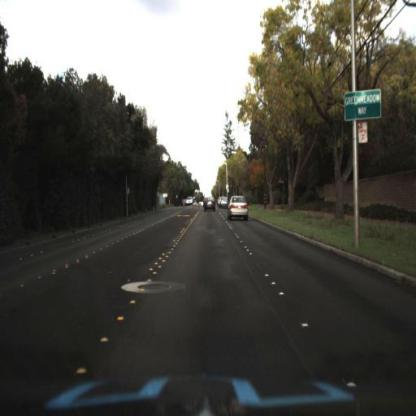car: (227, 192, 249, 223), (203, 195, 216, 216), (217, 192, 231, 211), (218, 197, 228, 213)
